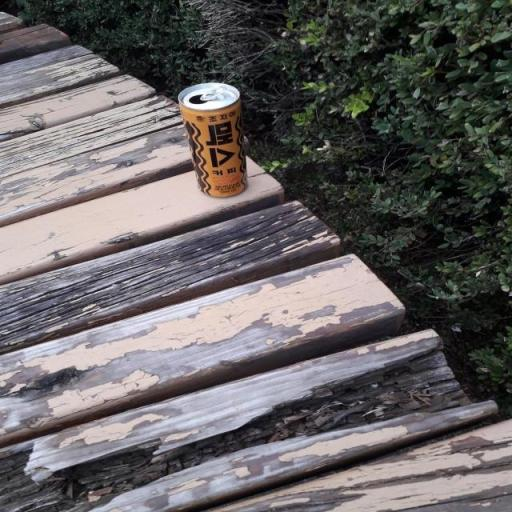metal: (142, 65, 279, 213)
